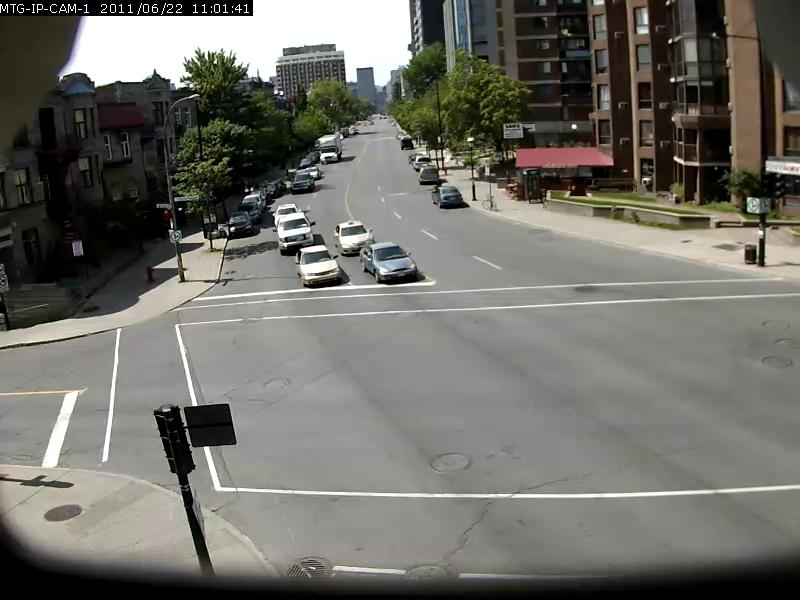Car: (358, 240, 418, 284), (292, 244, 343, 287), (276, 213, 315, 254), (333, 219, 376, 255), (319, 134, 342, 163), (273, 204, 300, 224), (290, 172, 315, 193), (304, 166, 321, 179)
